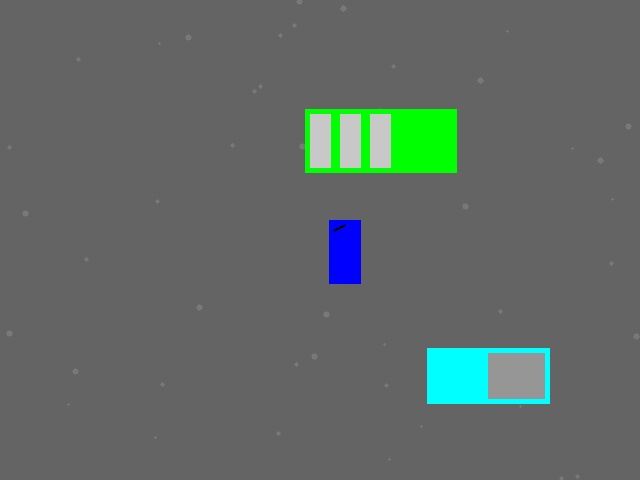bus: (305, 109, 456, 172)
motorcycle: (329, 220, 360, 283)
truck: (427, 348, 549, 403)
